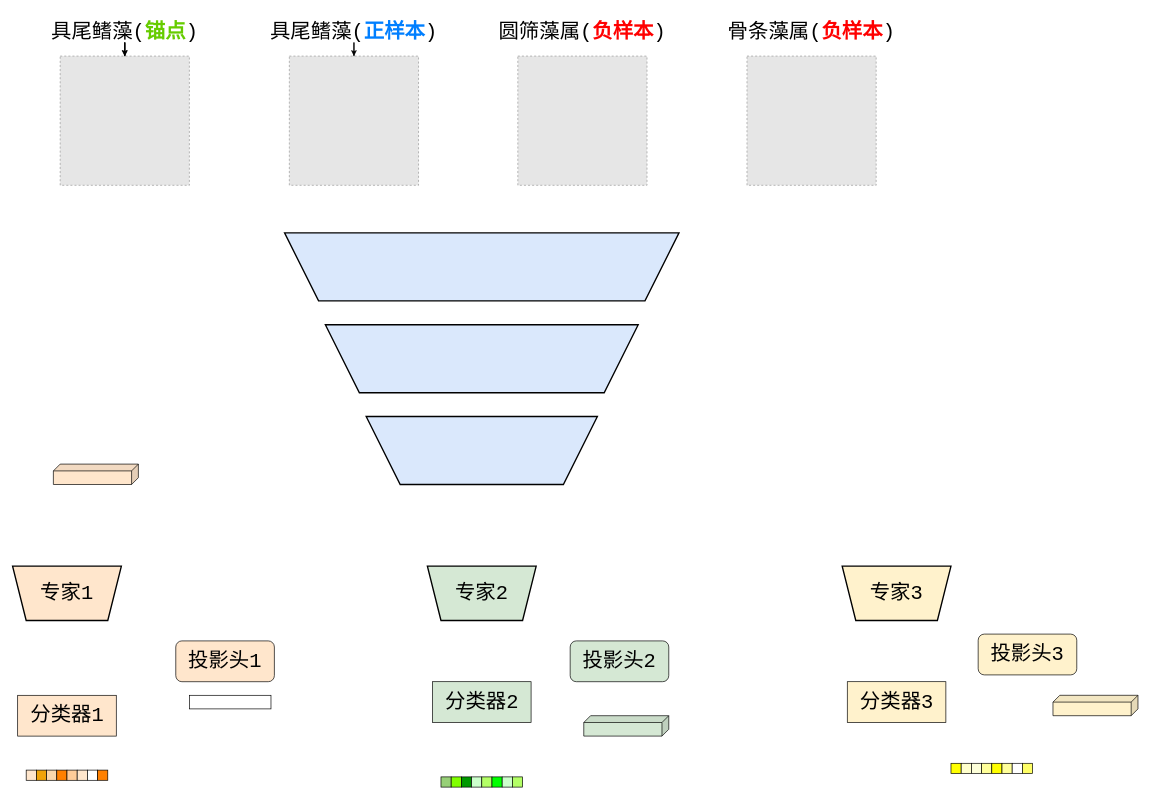
Some shapes in this 1150 by 799 pixel diagram are drawn without their labels. Grey dashed boxes stand in for pictures. Each missing label, with the centre of its shape:
阶段1: [481,266]
阶段2: [481,358]
阶段3: [481,450]
